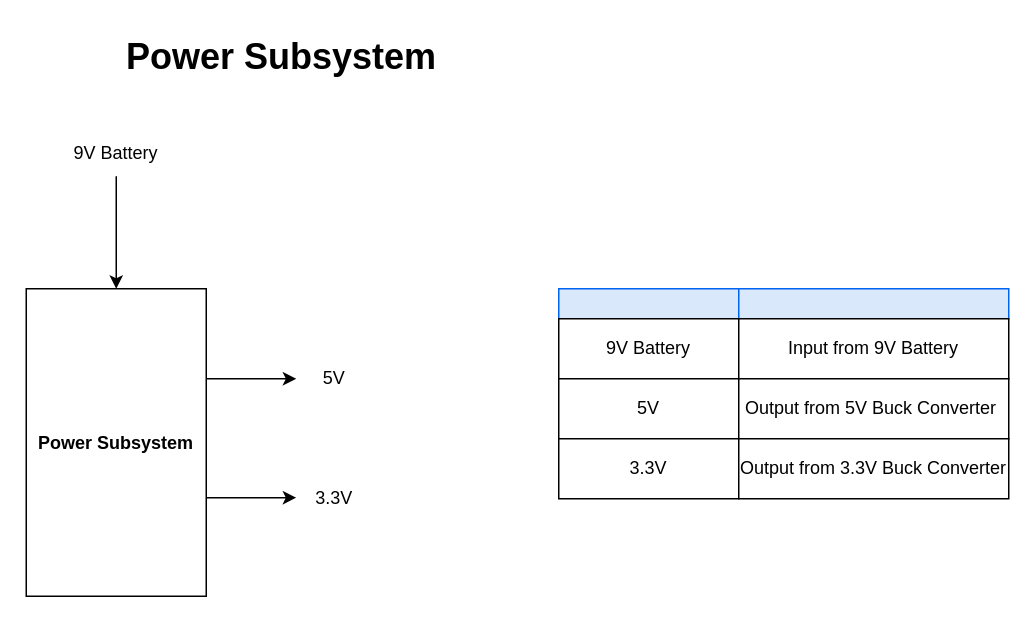
The diagram is 1035 pixels wide and 623 high, and some of its shapes have lost their labels. The shapes that lost their labels are listed below. From the top down, each one's centre as x and y in pixels, then its label:
At point (648, 303): "Input/Output".
At point (873, 303): "Interface".
